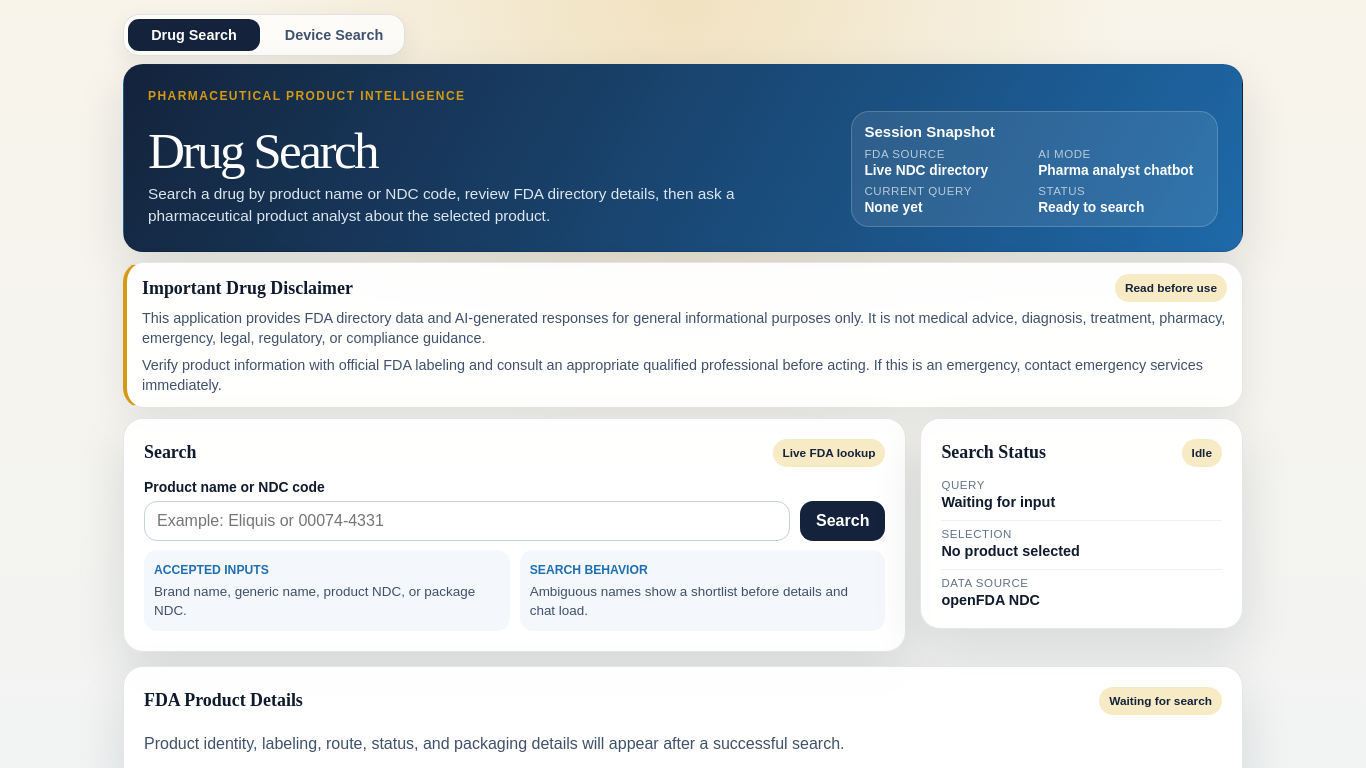
shows a useful drug search error
Type "Eliquis" into the field labelled "Product name or NDC code" at (467, 521), box [144, 501, 790, 541]
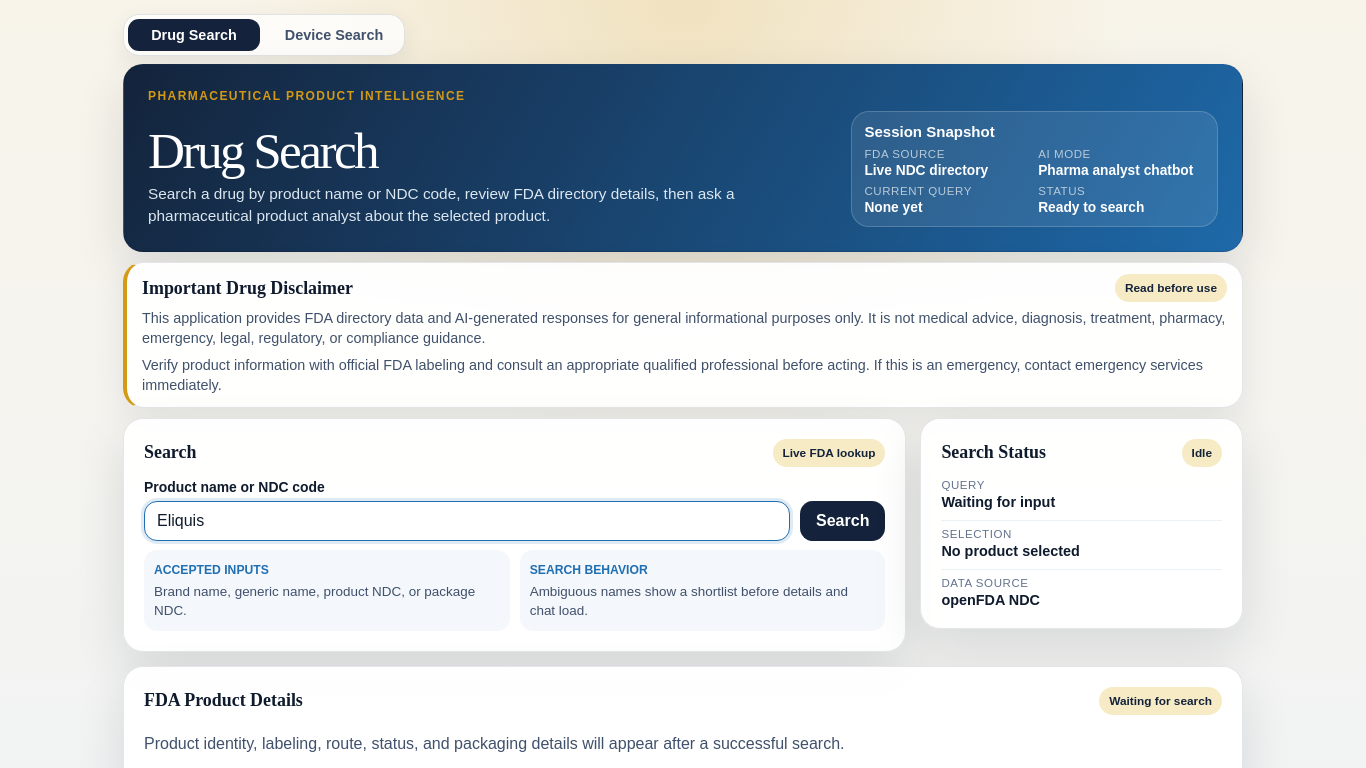
Click the button "Search" at (843, 521), box [800, 501, 885, 541]
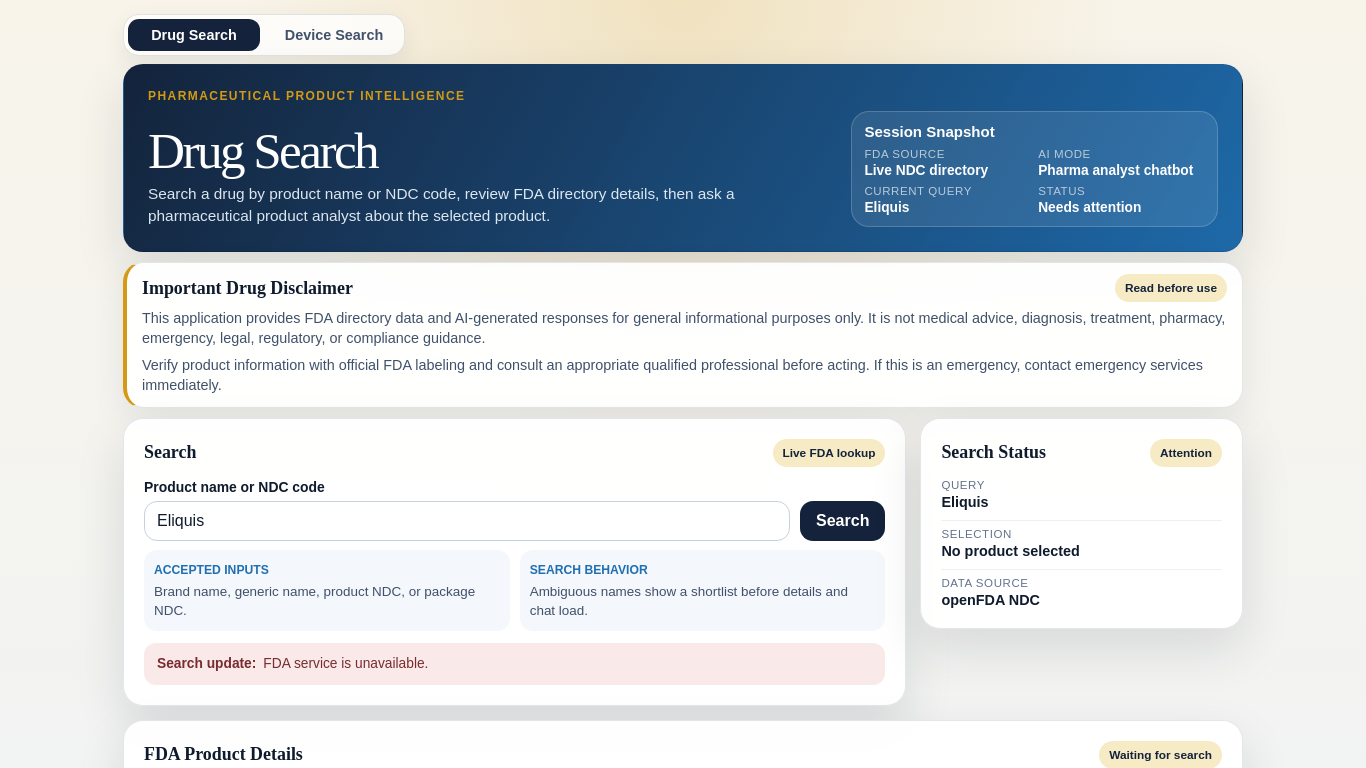
Result: the message shows "FDA service is unavailable." at [263, 656, 428, 671]
